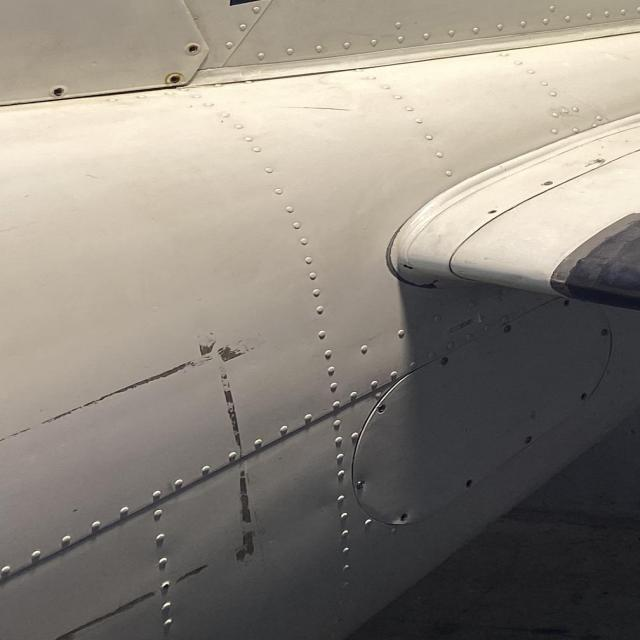Missing-head: (185, 42, 200, 56), (50, 86, 67, 98), (486, 207, 498, 216)
